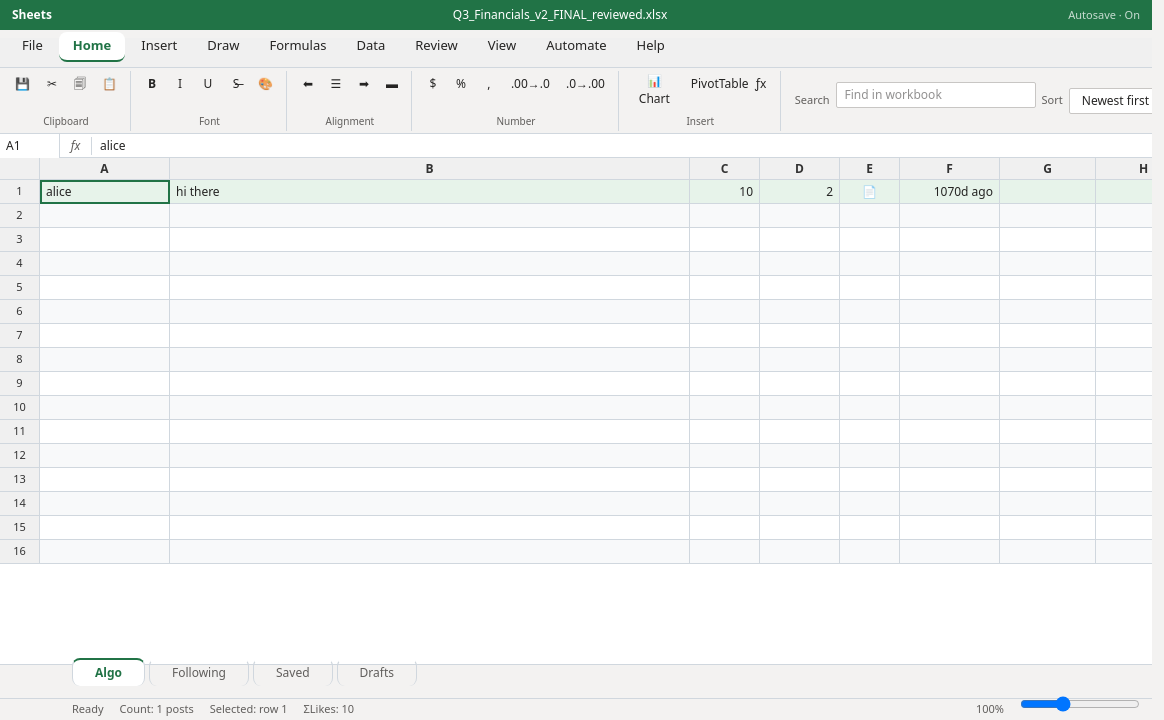
Test: LedgerPage › double-clicking a cell puts it in edit mode with the raw value
The width and height of the screenshot is (1164, 720).
Double-click the text with test id "ledger-cell-0-B" at (430, 192), box [170,180,690,204]
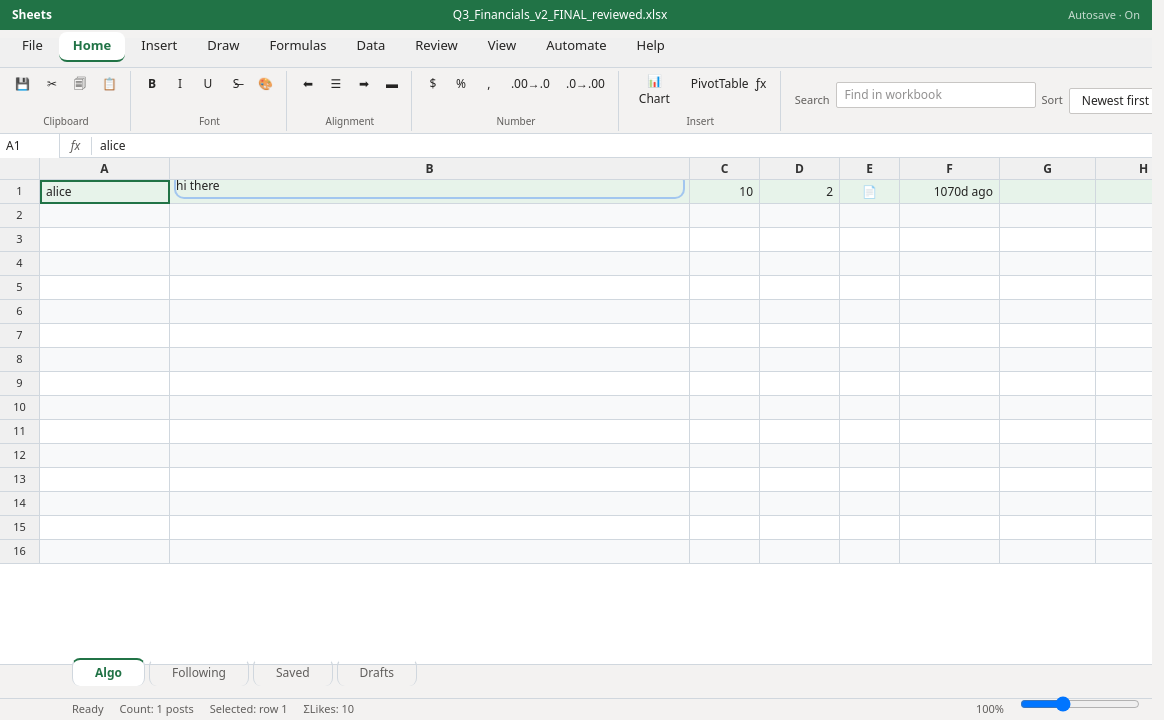
Check: the field showing "hi there" is shown, box [176,180,683,197]
